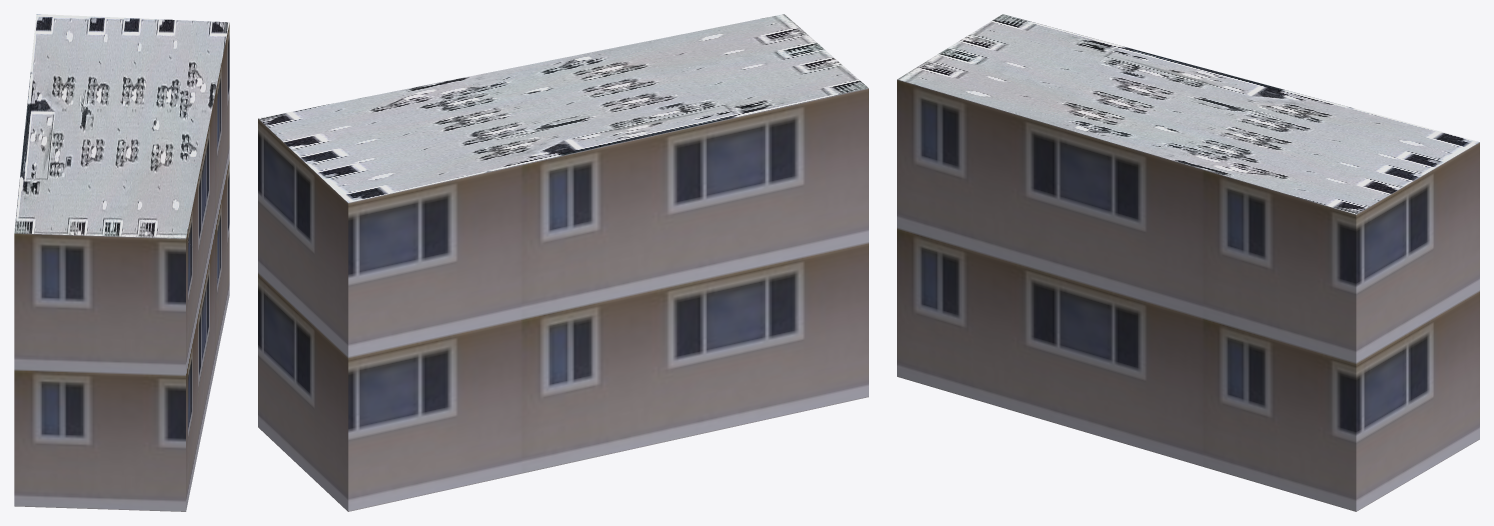
The model's file is ResTex__4705.fbx.
3 renders of one model, left to right at view 1: azimuth 30°, elevation 25°; view 2: azimuth 150°, elevation 25°; view 3: azimuth 270°, elevation 25°, orthographic. The views are drawn at different scales.
Visible parts, largest first — view 1: CityEngineMaterial_21_m, CityEngineMaterial_4_m; view 2: CityEngineMaterial_21_m, CityEngineMaterial_4_m; view 3: CityEngineMaterial_21_m, CityEngineMaterial_4_m.
Part boxes in pixels (box(x1,y1,x2,y2)): CityEngineMaterial_21_m: box(14, 23, 229, 511); CityEngineMaterial_4_m: box(14, 14, 229, 238); CityEngineMaterial_21_m: box(258, 88, 868, 511); CityEngineMaterial_4_m: box(258, 14, 868, 202); CityEngineMaterial_21_m: box(897, 79, 1479, 511); CityEngineMaterial_4_m: box(897, 14, 1479, 214).
Bounding box in the file's own units: 8.68 × 6 × 10.66.
Materials: 2 (2 with a texture image).
